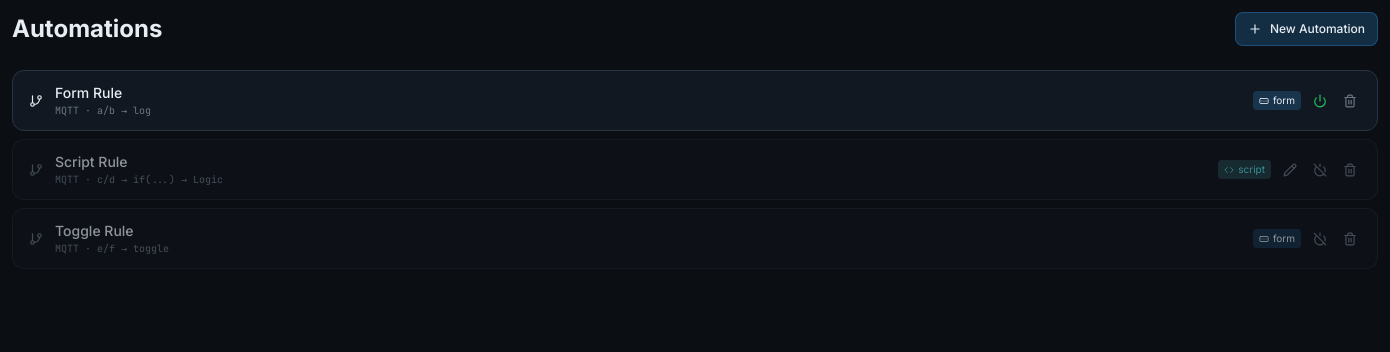
Test: AutomationsPage › does not open editing with stale source when the Project read fails
Click the text "Script Rule".
click(91, 162)  # box left=55, top=153, right=128, bottom=170
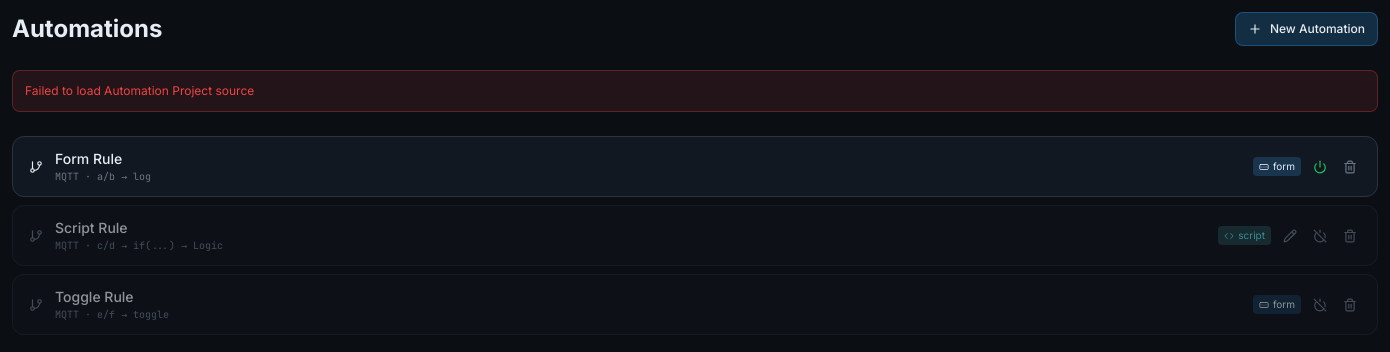
Expected: the text "Failed to load Automation Project source" is shown, left=12, top=70, right=1378, bottom=112
